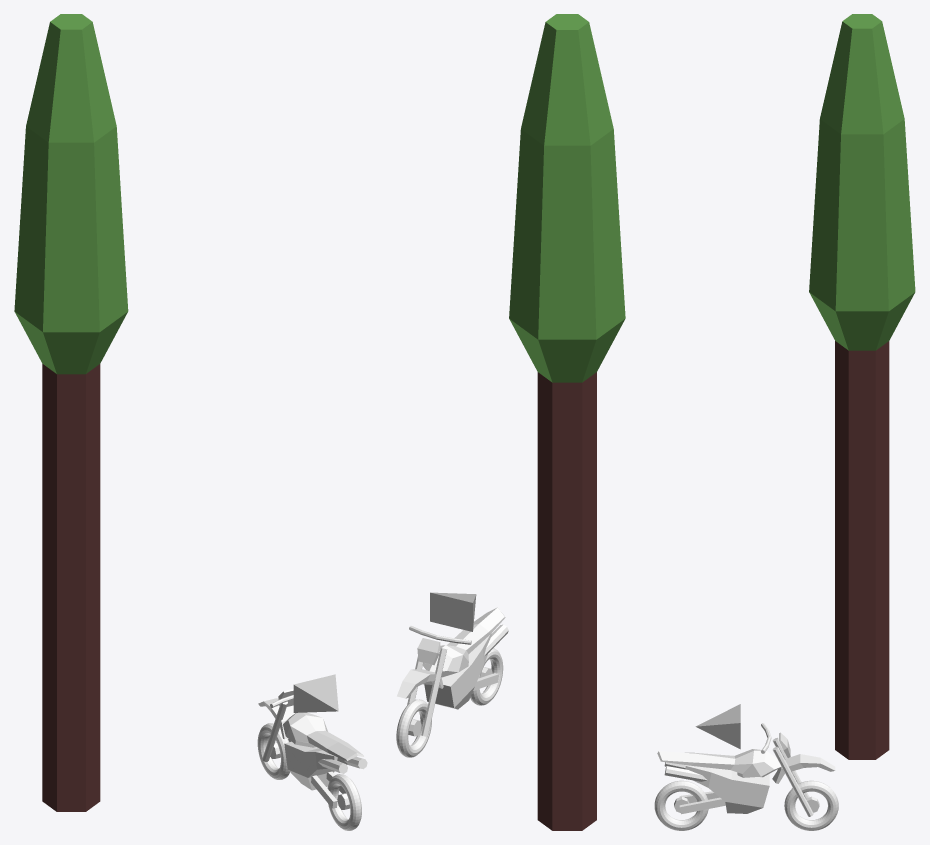
The picture shows the model from 3 angles, left to right: view 1: azimuth 30°, elevation 25°; view 2: azimuth 150°, elevation 25°; view 3: azimuth 270°, elevation 25°; orthographic projection. The views are drawn at different scales.
Parts seen in each view (by area): view 1: Tree_Cylinder, Motor_Torus, Camera_Cube; view 2: Tree_Cylinder, Motor_Torus, Camera_Cube; view 3: Tree_Cylinder, Motor_Torus, Camera_Cube.
Part boxes in pixels (x1,y1,x2,y2): Tree_Cylinder: (14,14,128,811); Motor_Torus: (257,689,367,830); Camera_Cube: (293,674,338,712); Tree_Cylinder: (509,14,625,830); Motor_Torus: (396,607,508,757); Camera_Cube: (430,592,476,631); Tree_Cylinder: (809,14,915,759); Motor_Torus: (654,723,838,830); Camera_Cube: (695,704,740,749).
Size of what is drawn, in the model's own units: 3.27 by 9.76 by 3.17.
3 materials, 1 textured.
